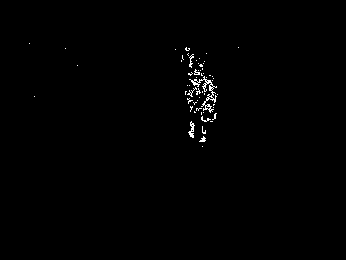person: (197, 73, 217, 147), (185, 62, 202, 142)
